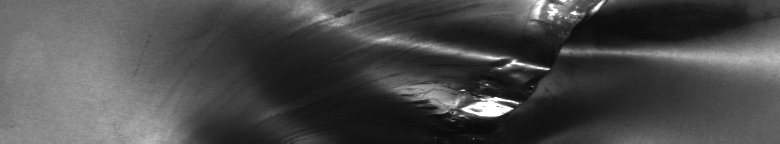ke: (263, 4, 776, 136)
